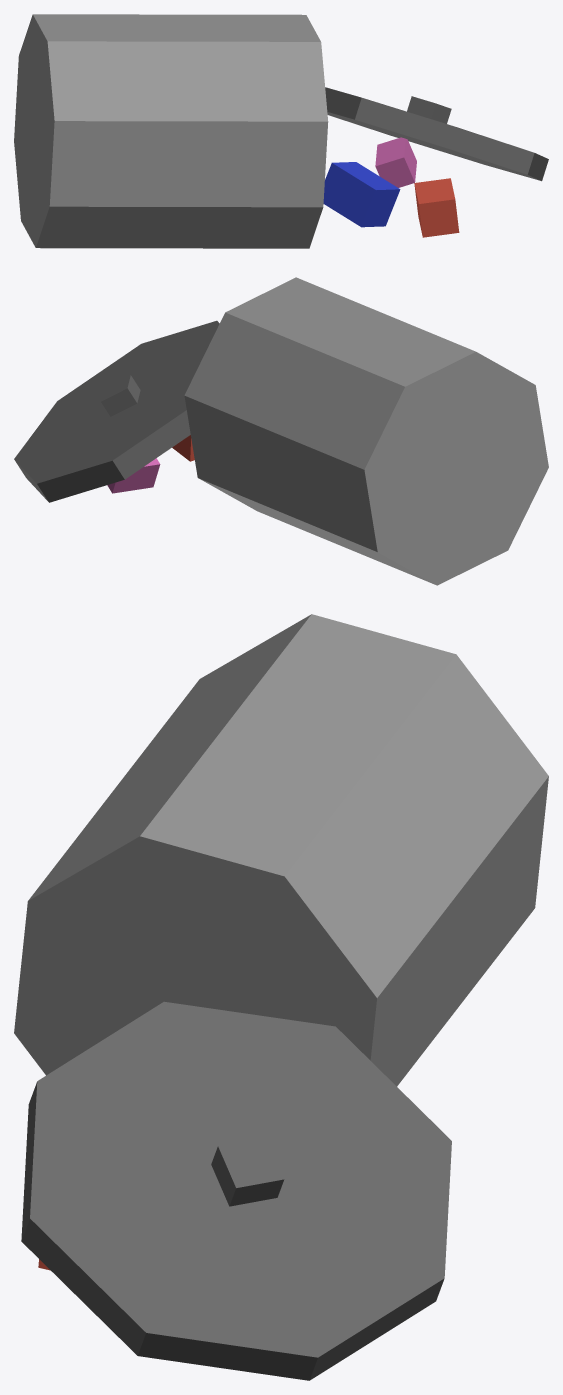
The model's file is trash.fbx.
3 renders of one model, top to bottom at view 1: azimuth 30°, elevation 25°; view 2: azimuth 150°, elevation 25°; view 3: azimuth 270°, elevation 25°, orthographic. The views are drawn at different scales.
Visible parts, largest first — view 1: Cylinder_Cylinder.001_Material.001, Cylinder.001_Cylinder.002_Material.002, Cube_Cube.002_Material.003, Cube.002_Cube.004_Material.004, Cube.001_Cube.003_Material.005; view 2: Cylinder_Cylinder.001_Material.001, Cylinder.001_Cylinder.002_Material.002, Cube.001_Cube.003_Material.005; view 3: Cylinder_Cylinder.001_Material.001, Cylinder.001_Cylinder.002_Material.002.
Part boxes in pixels (x1=…): Cylinder_Cylinder.001_Material.001: x1=14, y1=14, x2=328, y2=248; Cylinder.001_Cylinder.002_Material.002: x1=325, y1=87, x2=548, y2=181; Cube_Cube.002_Material.003: x1=323, y1=162, x2=400, y2=227; Cube.002_Cube.004_Material.004: x1=414, y1=178, x2=459, y2=237; Cube.001_Cube.003_Material.005: x1=375, y1=137, x2=416, y2=187; Cylinder_Cylinder.001_Material.001: x1=184, y1=277, x2=548, y2=585; Cylinder.001_Cylinder.002_Material.002: x1=14, y1=320, x2=219, y2=502; Cube.001_Cube.003_Material.005: x1=107, y1=458, x2=160, y2=493; Cylinder_Cylinder.001_Material.001: x1=14, y1=614, x2=548, y2=1086; Cylinder.001_Cylinder.002_Material.002: x1=21, y1=1001, x2=451, y2=1380.
Size of the model in its own units: 284 by 128 by 156.
